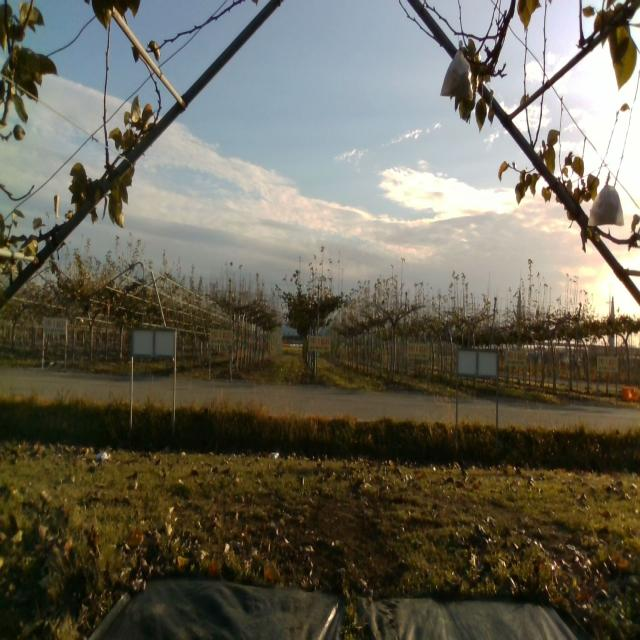pearbags: (439, 39, 474, 103), (586, 174, 626, 227)
